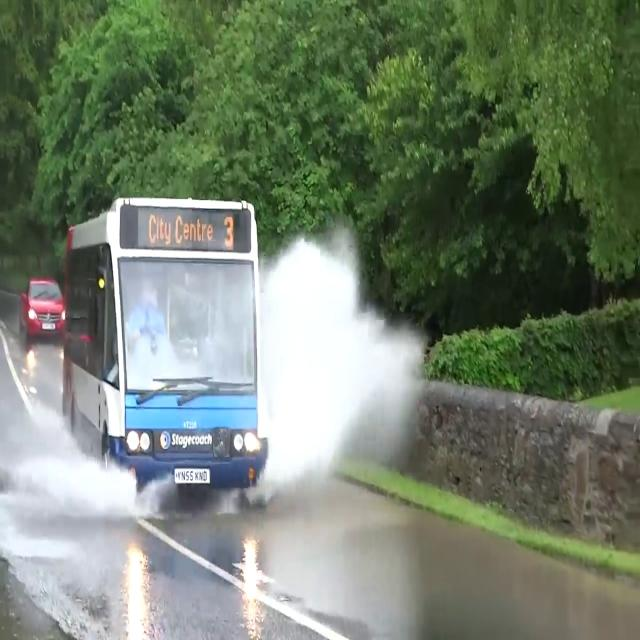license-plate-annotation: (172, 466, 210, 484)
